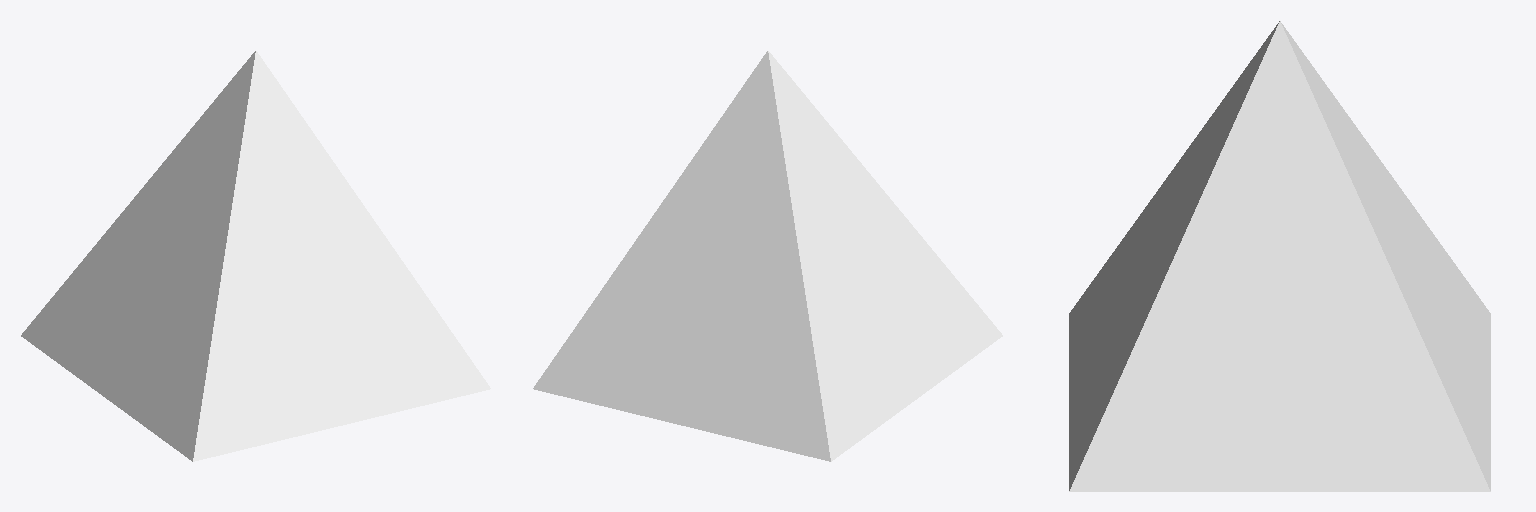
robot.urdf — cube:
<?xml version="0.0" ?>
<robot name="cube">
  <link name="baseLink">
    <contact>
      <lateral_friction value="1.0"/>
      <rolling_friction value="0.0"/>
      <contact_cfm value="0.0"/>
      <contact_erp value="1.0"/>
    </contact>
    <inertial>
      <origin rpy="0 0 0" xyz="0 0 0"/>
       <mass value="1.0"/>
       <inertia ixx="1" ixy="0" ixz="0" iyy="1" iyz="0" izz="1"/>
    </inertial>
    <visual>
      <origin rpy="0 0 0" xyz="0 0 0"/>
      <geometry>
				<mesh filename="tinker.obj" scale=".5 .5 .5"/>
      </geometry>
       <material name="white">
        <color rgba="1 1 1 1"/>
      </material>
    </visual>
    <collision>
      <origin rpy="0 0 0" xyz="0 0 0"/>
      <geometry>
	 	<box size=".5 .5 .5"/>
      </geometry>
    </collision>
  </link>
</robot>

--- What the picture shows (computed from the rendered views, not written in the file) ---
3 views of the same robot in one strip: view 1: azimuth 30°, elevation 25°; view 2: azimuth 150°, elevation 25°; view 3: azimuth 270°, elevation 25° (orthographic).
Model cube with 1 links and 0 joints (none), rooted at baseLink, posed all joints at 0.
Links seen in each view (by area): view 1: baseLink; view 2: baseLink; view 3: baseLink.
Link boxes in pixels (x1,y1,x2,y2): baseLink: (21, 51, 490, 461); baseLink: (533, 51, 1002, 461); baseLink: (1069, 21, 1490, 491).
Size in the robot's own frame: 1 by 1 by 1 metres.
1 mesh visuals loaded from 1 distinct referenced files (1 OBJ).